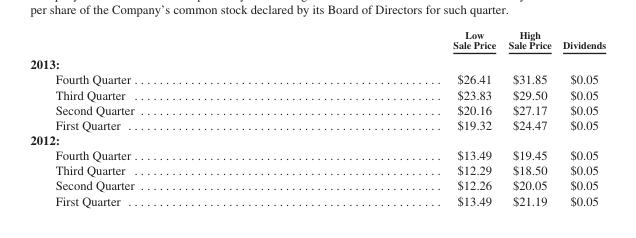table: (29, 28, 605, 207)
table column: (29, 28, 292, 207), (292, 28, 501, 207), (501, 28, 556, 207), (556, 28, 605, 207)
table column header: (29, 28, 605, 53)
table projected row header: (29, 53, 605, 71), (29, 131, 605, 147)
table row: (29, 28, 605, 53), (29, 53, 605, 71), (29, 131, 605, 147), (29, 71, 605, 86), (29, 86, 605, 101), (29, 101, 605, 116), (29, 116, 605, 131), (29, 147, 605, 162), (29, 162, 605, 177), (29, 177, 605, 192), (29, 192, 605, 207)
